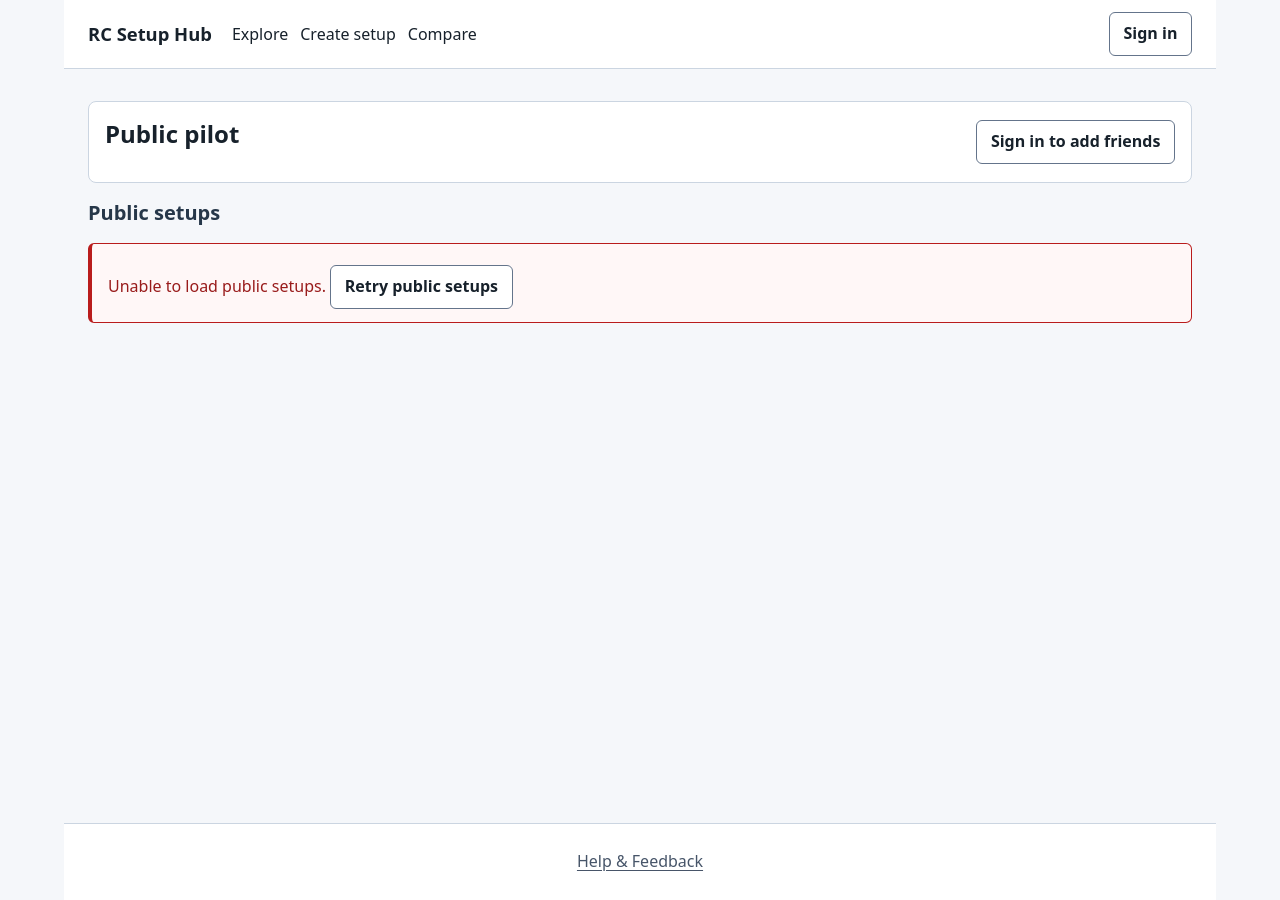
Test: guest empty and failed public lists keep safe profile visible and retry independently
This screenshot has width=1280, height=900.
Expected: the heading "Public pilot" is shown, [105,118,239,150]
Click the button "Retry public setups": click(421, 287) [330,265,513,309]
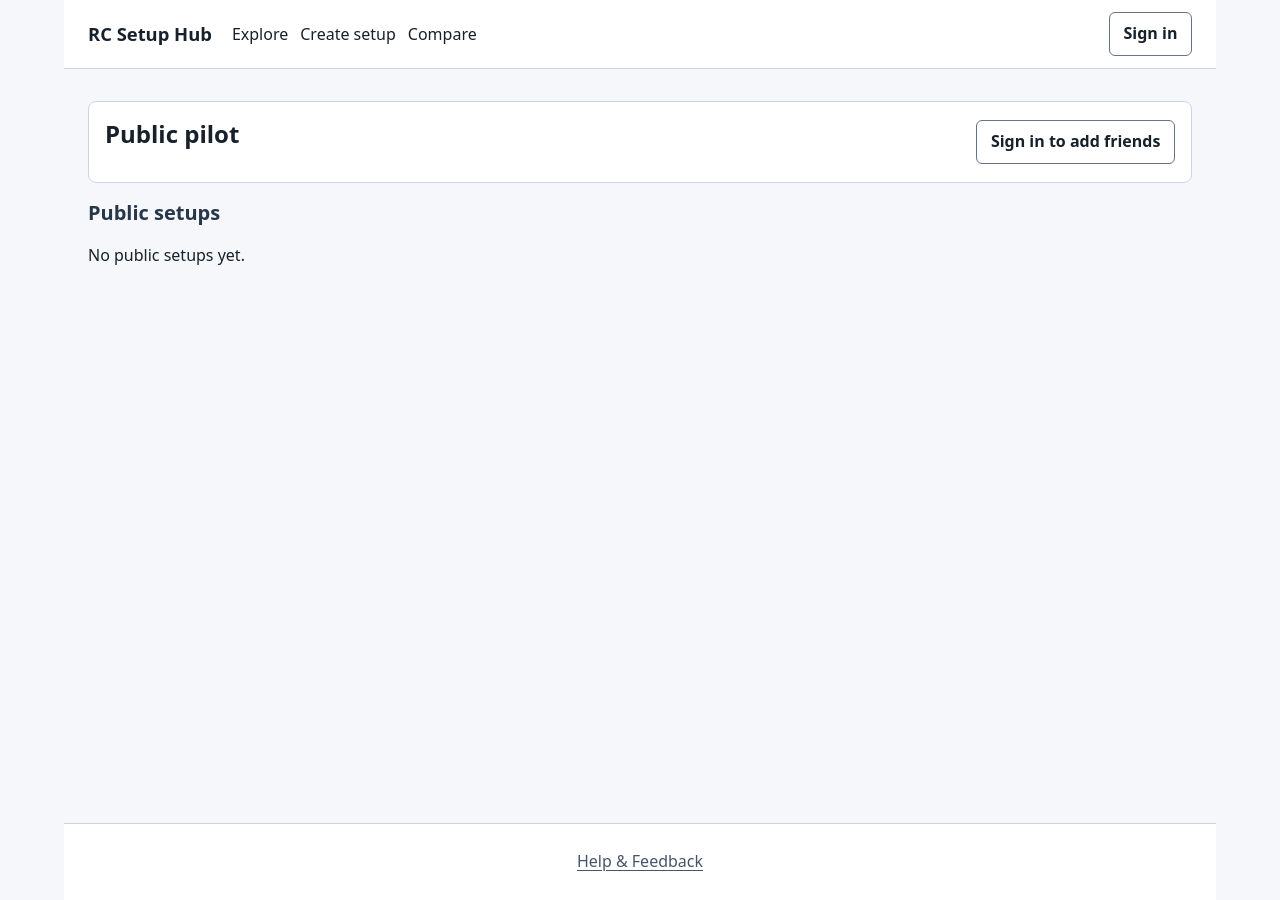
Expected: the text "No public setups yet." is shown, [88,244,245,266]
